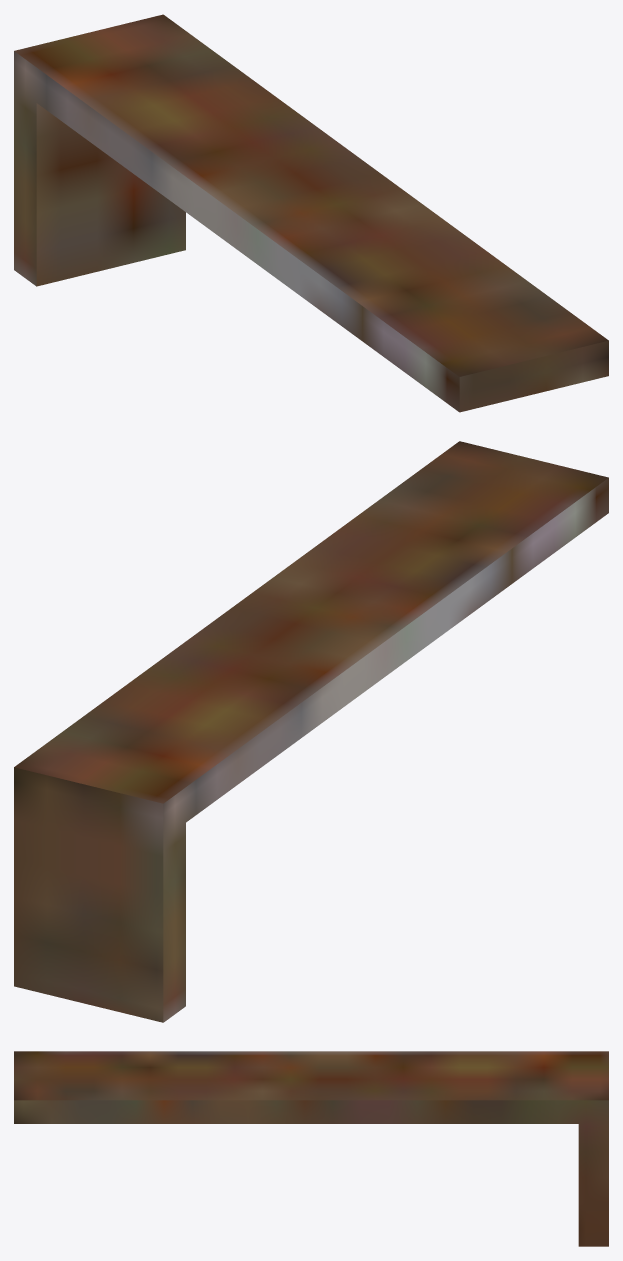
Rendered from Pipe_Set_3_10.glb.
The picture shows the model from 3 angles, top to bottom: view 1: azimuth 30°, elevation 25°; view 2: azimuth 150°, elevation 25°; view 3: azimuth 270°, elevation 25°; orthographic projection. The views are drawn at different scales.
Parts seen in each view (by area): view 1: Pipe_Set_3_10; view 2: Pipe_Set_3_10; view 3: Pipe_Set_3_10.
Boxes of the visible parts, bbox=[...] form: Pipe_Set_3_10: bbox=[14, 14, 608, 412]; Pipe_Set_3_10: bbox=[14, 441, 608, 1022]; Pipe_Set_3_10: bbox=[14, 1051, 608, 1246].
Size of the model in its own units: 0.0139 by 0.0195 by 0.072.
1 material, 1 textured.
